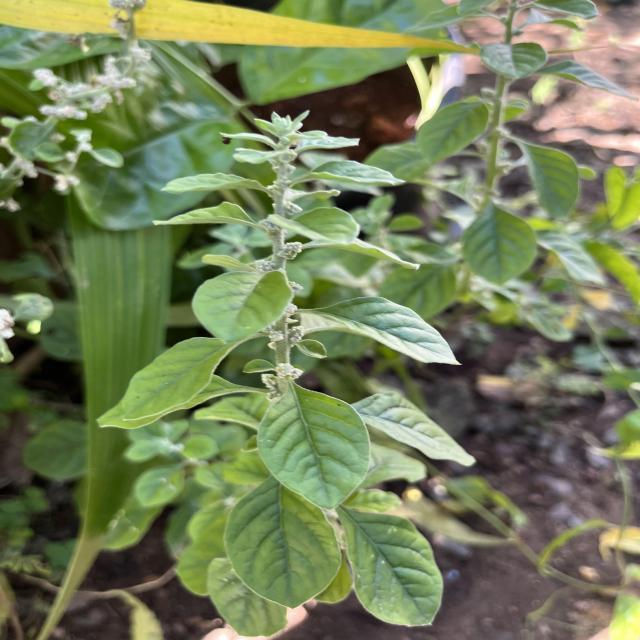Aerva lanata: (221, 485, 344, 613), (255, 386, 373, 514), (339, 507, 446, 628)
